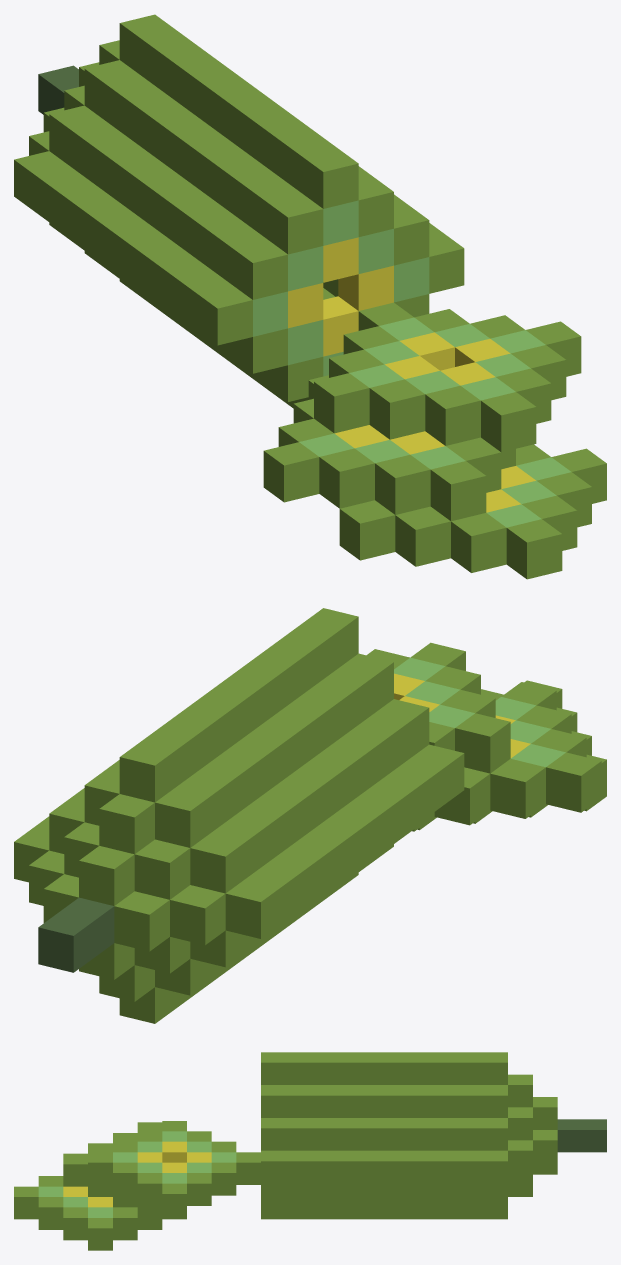
File: Bitter_Gourd.fbx
3 renders of one model, top to bottom at view 1: azimuth 30°, elevation 25°; view 2: azimuth 150°, elevation 25°; view 3: azimuth 270°, elevation 25°, orthographic. The views are drawn at different scales.
Parts seen in each view (by area): view 1: Bitter_Gourd:Bitter_Gourd; view 2: Bitter_Gourd:Bitter_Gourd; view 3: Bitter_Gourd:Bitter_Gourd.
Part boxes in pixels (x1,y1,x2,y2): Bitter_Gourd:Bitter_Gourd: (14, 14, 606, 579); Bitter_Gourd:Bitter_Gourd: (14, 608, 606, 1023); Bitter_Gourd:Bitter_Gourd: (14, 1052, 606, 1250).
Bounding box in the file's own units: 9 × 7 × 24.
